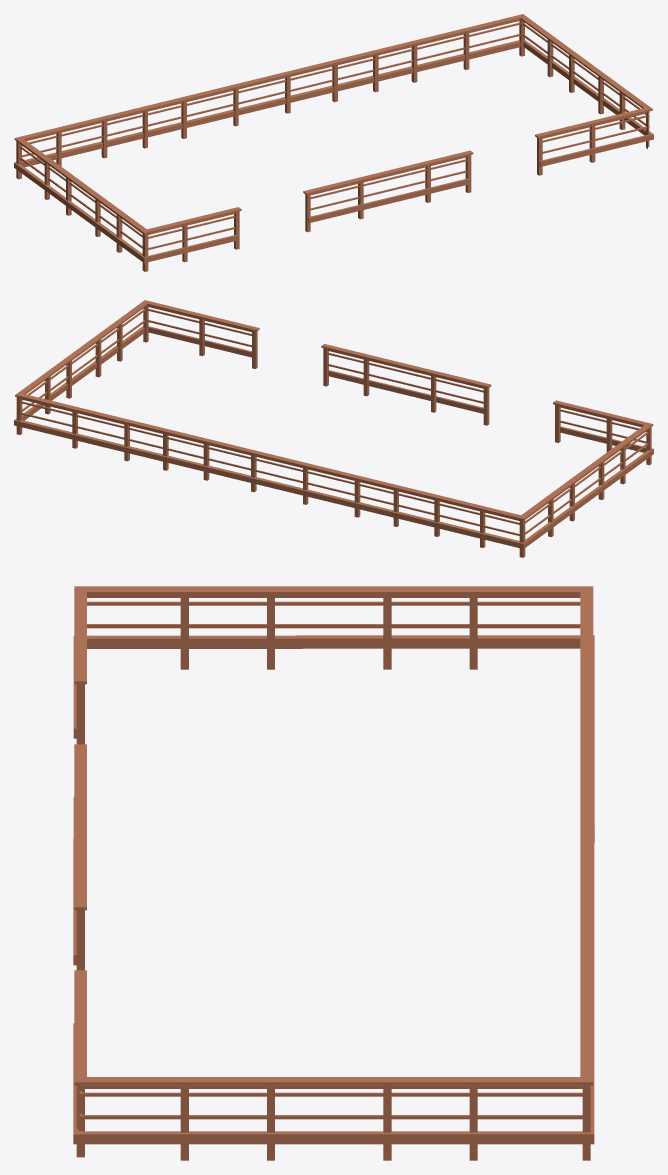
File: Testhouse_Foundation_FenceLarge.fbx
3 renders of one model, top to bottom at view 1: azimuth 30°, elevation 25°; view 2: azimuth 150°, elevation 25°; view 3: azimuth 270°, elevation 25°, orthographic. The views are drawn at different scales.
Visible parts, largest first — view 1: Testhouse_Foundation_FenceLarge; view 2: Testhouse_Foundation_FenceLarge; view 3: Testhouse_Foundation_FenceLarge.
Boxes of the visible parts, x1,y1,x2,y2 form: Testhouse_Foundation_FenceLarge: [14, 14, 653, 271]; Testhouse_Foundation_FenceLarge: [14, 300, 653, 557]; Testhouse_Foundation_FenceLarge: [73, 586, 594, 1160].
Bounding box in the file's own units: 559 × 248 × 41.5.
